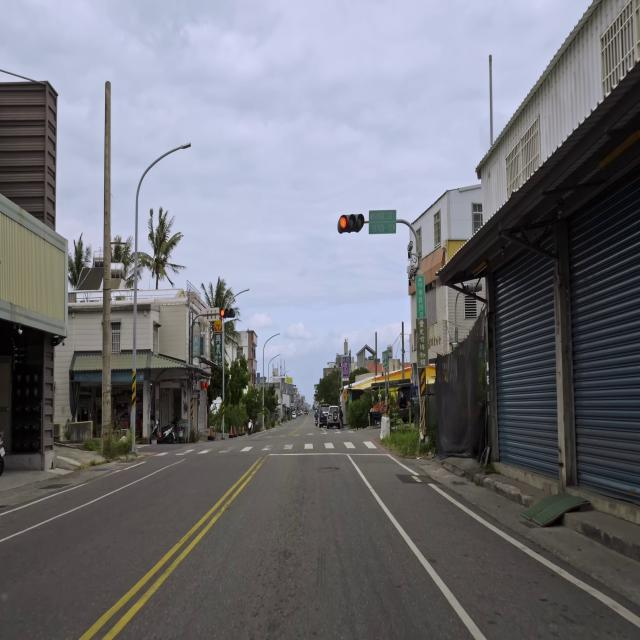red light: (338, 214, 364, 232), (220, 308, 235, 318)
